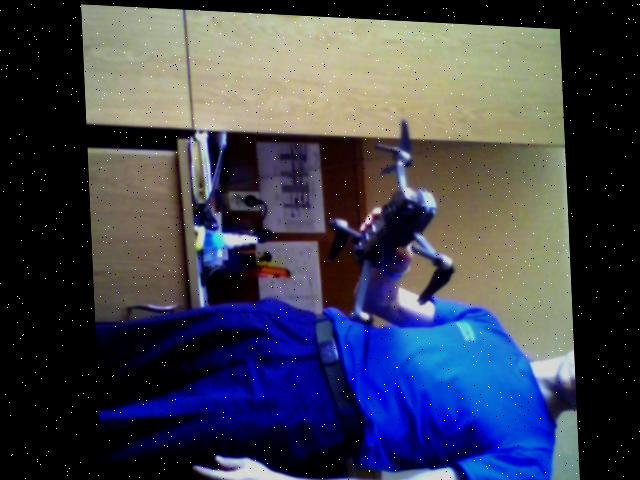drone: (299, 111, 467, 338)
